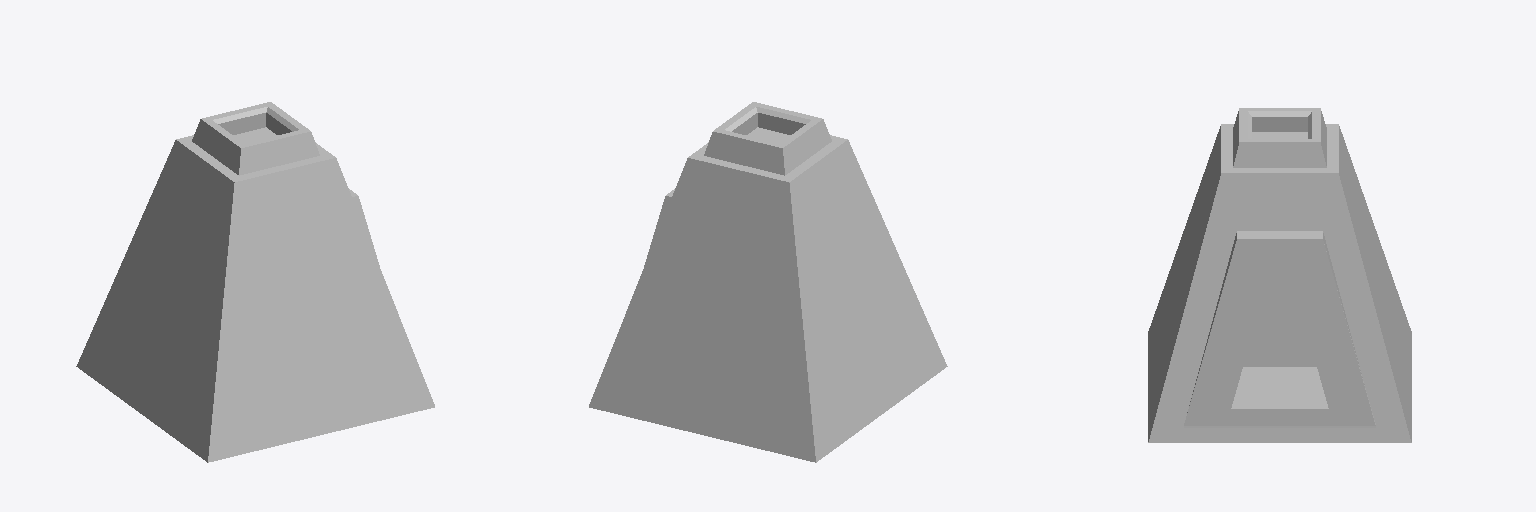
File: furnace.obj
3 renders of one model, left to right at view 1: azimuth 30°, elevation 25°; view 2: azimuth 150°, elevation 25°; view 3: azimuth 270°, elevation 25°, orthographic.
Parts seen in each view (by area): view 1: Куб_Куб.002; view 2: Куб_Куб.002; view 3: Куб_Куб.002.
Boxes of the visible parts, box(x1,y1,x2,y2) form: Куб_Куб.002: box(76, 102, 434, 462); Куб_Куб.002: box(589, 102, 947, 462); Куб_Куб.002: box(1148, 108, 1411, 442).
Size of the model in its own units: 5.6 by 6.15 by 5.6.